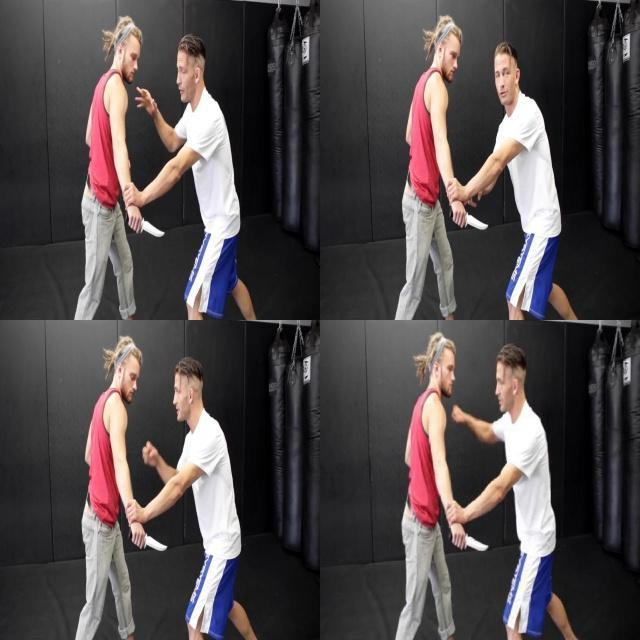-: (123, 207, 167, 241), (446, 526, 490, 556), (125, 527, 168, 557), (448, 205, 490, 234)
